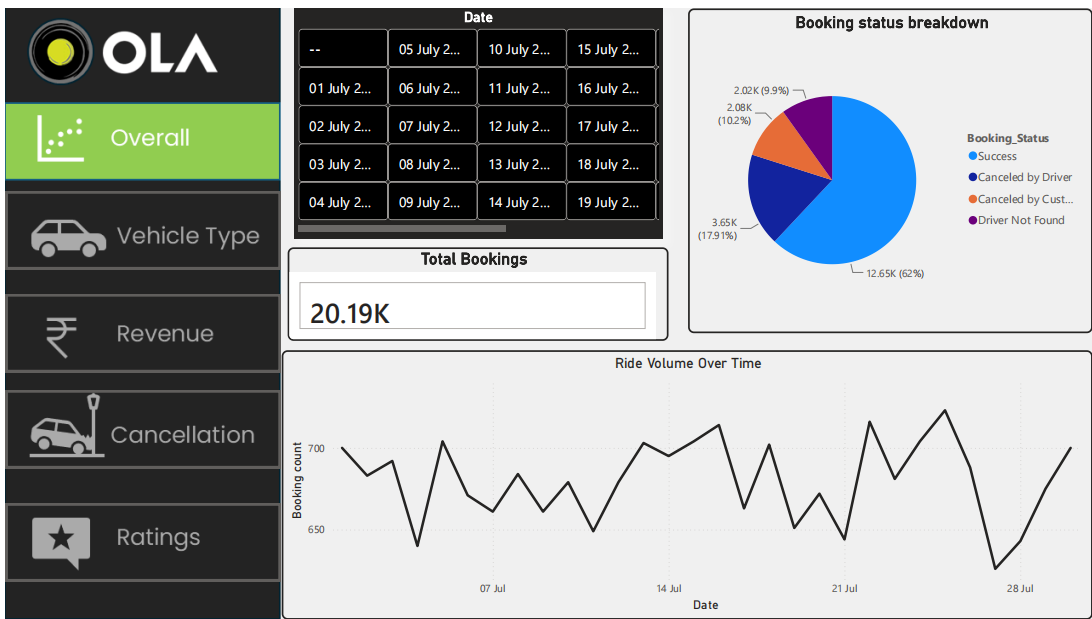

This screenshot's page, from the dashboard's own definition file:
{"tool":"powerbi","page":{"name":"Overall","canvas":[1280,720],"ordinal":0},"visuals":[{"type":"actionButton","box":[0,214.7,324.5,92.3],"z":0},{"type":"actionButton","box":[0,335.6,324.5,92.3],"z":1000},{"type":"actionButton","box":[0,448.6,324.5,92.3],"z":2000},{"type":"actionButton","box":[0,582.2,324.5,92.3],"z":3000},{"type":"lineChart","title":"Ride  Volume Over Time ","fields":{"Category":["July.Date"],"Y":["CountNonNull(July.Booking_ID)"]},"box":[324.6,402.4,954.8,317],"z":4000},{"type":"pieChart","title":"Booking status  breakdown","fields":{"Category":["July.Booking_Status"],"Y":["CountNonNull(July.Booking_Status)"]},"box":[802.9,0,476.4,381.5],"z":5000},{"type":"advancedSlicerVisual","fields":{"Values":["July.Date"]},"box":[339.8,0,432.8,271.4],"z":6000},{"type":"cardVisual","title":"Total Bookings","fields":{"Data":["Count(July.Customer_ID)"]},"box":[332.2,280.9,448,110.1],"z":7000}]}

Visuals, with their boxes in screenshot pixels (x1, y1, x2, y2), scaled from the page's 1280x720 canvas onto the 1092x619 screenshot:
actionButton: box(0, 185, 277, 264)
actionButton: box(0, 289, 277, 368)
actionButton: box(0, 386, 277, 465)
actionButton: box(0, 501, 277, 580)
"Ride  Volume Over Time " lineChart: box(277, 346, 1091, 618)
"Booking status  breakdown" pieChart: box(685, 0, 1091, 328)
advancedSlicerVisual - July.Date: box(290, 0, 659, 233)
"Total Bookings" cardVisual: box(283, 241, 666, 336)
